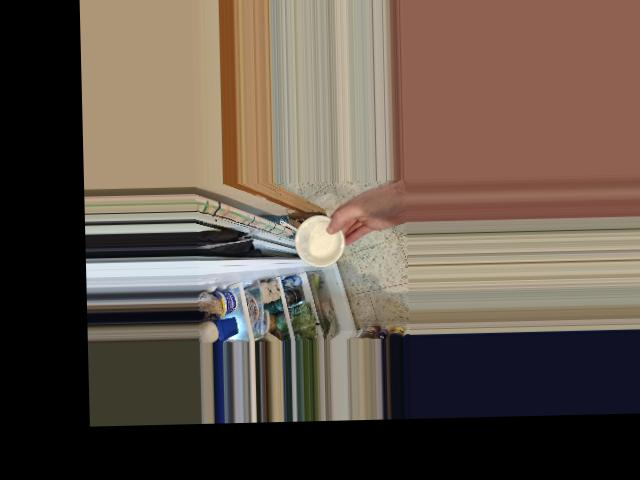cotage: (294, 218, 339, 264)
